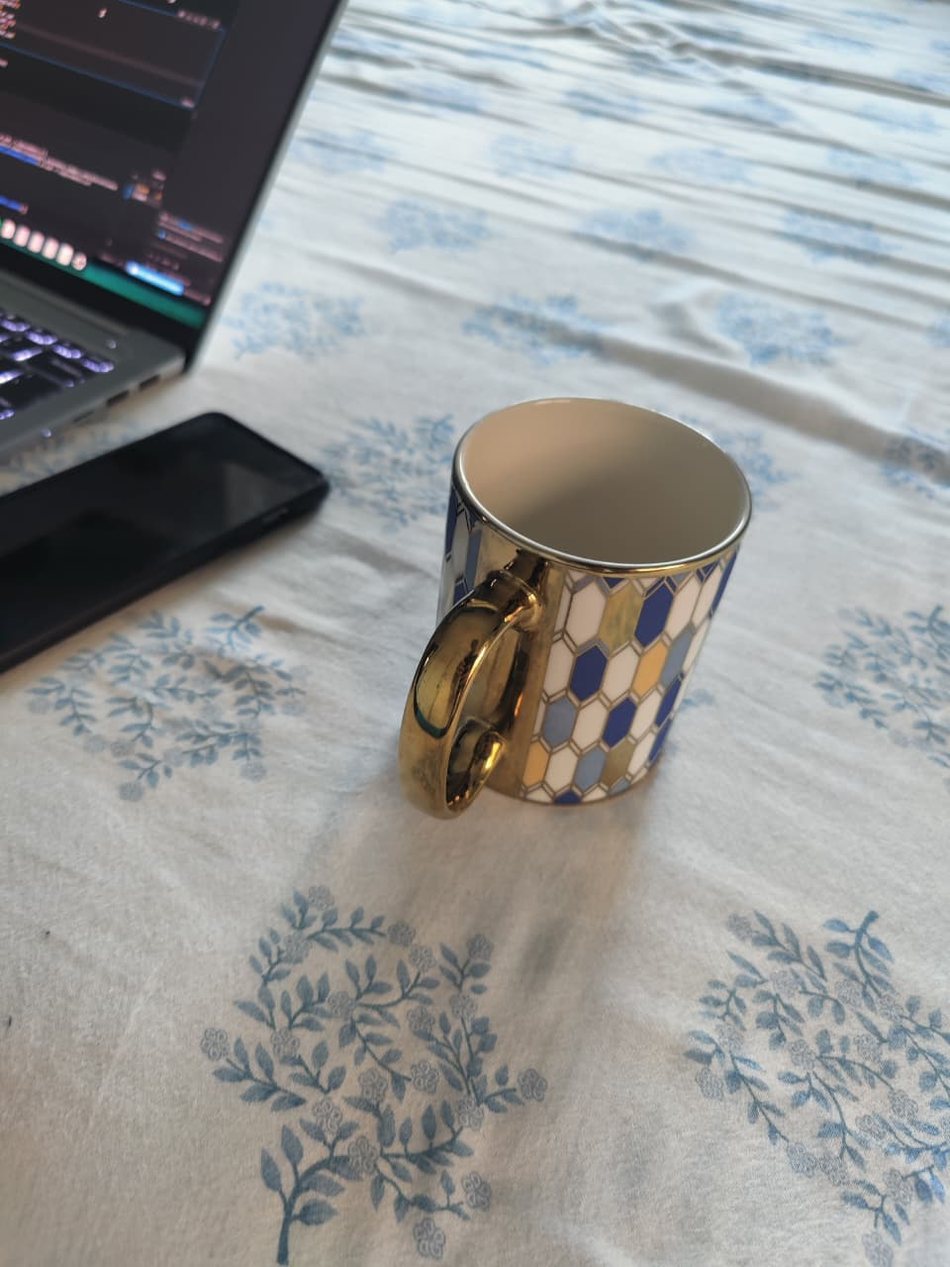cup: (393, 397, 761, 826)
